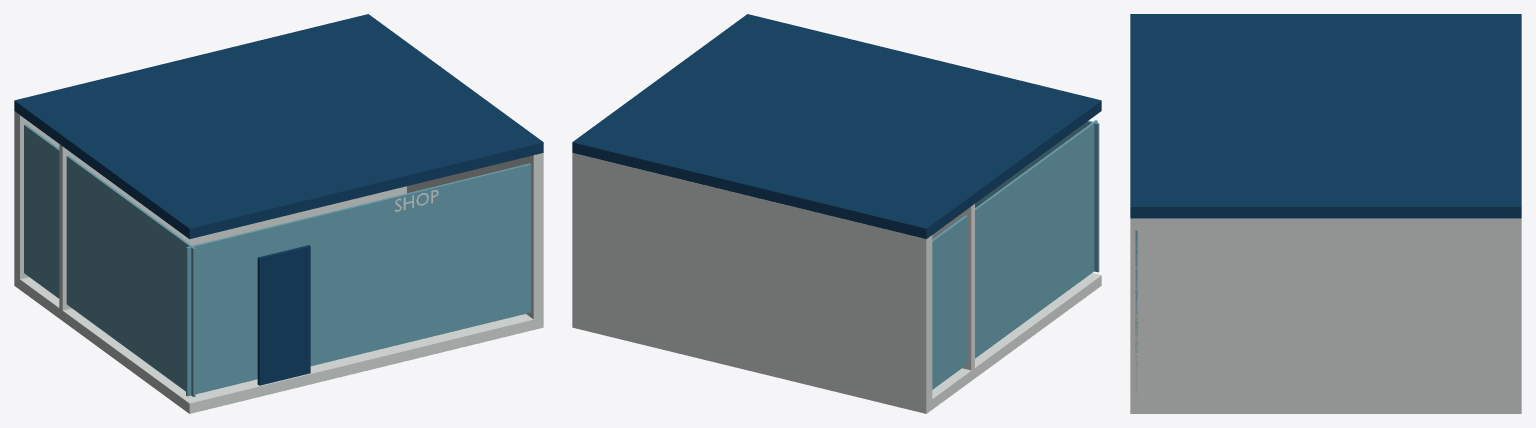
Rendered from edited.glb.
The picture shows the model from 3 angles, left to right: view 1: azimuth 30°, elevation 25°; view 2: azimuth 150°, elevation 25°; view 3: azimuth 270°, elevation 25°; orthographic projection. The views are drawn at different scales.
Parts seen in each view (by area): view 1: ROOF, STOREFRONT_Glazing, STOREFRONT_Corner, FOUNDATION, ENTRANCE_Leaf, STOCKROOM_Partition, STOREFRONT_Side, STOCKROOM_Back; view 2: ROOF, STOCKROOM_Back, STOREFRONT_Corner, FOUNDATION, STOREFRONT_Glazing, STOCKROOM_Partition; view 3: ROOF, STOREFRONT_Side, FOUNDATION, STOCKROOM_Back, STOCKROOM_Partition, STOREFRONT_Glazing.
Boxes of the visible parts, <box> form: ROOF: <box>14,14,543,239</box>; STOREFRONT_Glazing: <box>186,163,531,396</box>; STOREFRONT_Corner: <box>24,124,195,396</box>; FOUNDATION: <box>14,275,543,413</box>; ENTRANCE_Leaf: <box>257,245,310,385</box>; STOCKROOM_Partition: <box>59,144,406,315</box>; STOREFRONT_Side: <box>407,153,543,319</box>; STOCKROOM_Back: <box>14,111,59,283</box>; ROOF: <box>572,14,1101,239</box>; STOCKROOM_Back: <box>572,153,932,408</box>; STOREFRONT_Corner: <box>932,120,1097,389</box>; FOUNDATION: <box>572,273,1101,413</box>; STOREFRONT_Glazing: <box>975,120,1099,272</box>; STOCKROOM_Partition: <box>932,204,974,370</box>; ROOF: <box>1130,14,1521,218</box>; STOREFRONT_Side: <box>1130,218,1521,407</box>; FOUNDATION: <box>1130,402,1521,413</box>; STOCKROOM_Back: <box>1509,218,1521,407</box>; STOCKROOM_Partition: <box>1413,218,1420,407</box>; STOREFRONT_Glazing: <box>1135,230,1137,391</box>.
Bounding box in the file's own units: 7 × 3.5 × 6.
